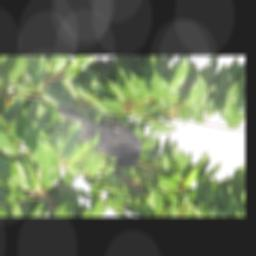Crow: (54, 106, 143, 169)
